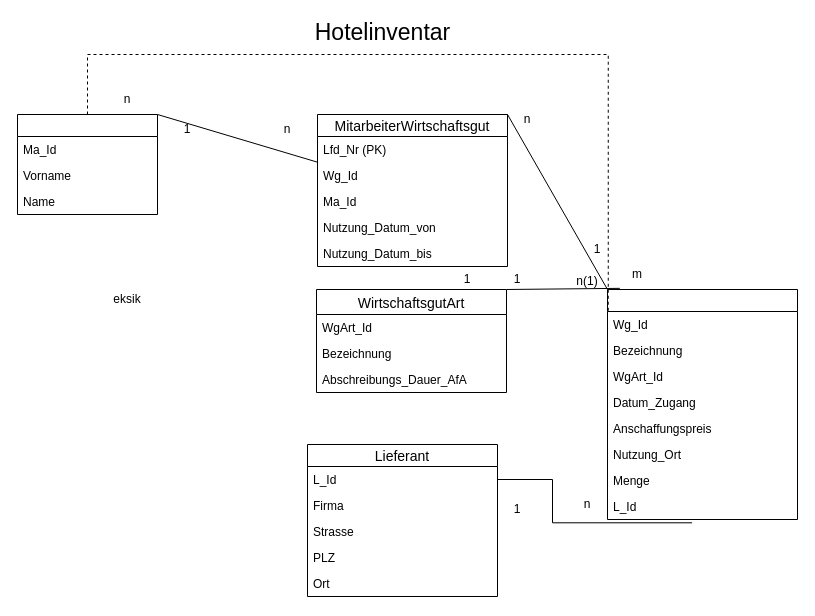
Some shapes in this 815 by 616 pixel diagram are drawn without their labels. Each missing label, with the box of its shape:
Mitarbeiter: (16, 114, 158, 214)
Wirtschaftsgut: (606, 288, 798, 520)
